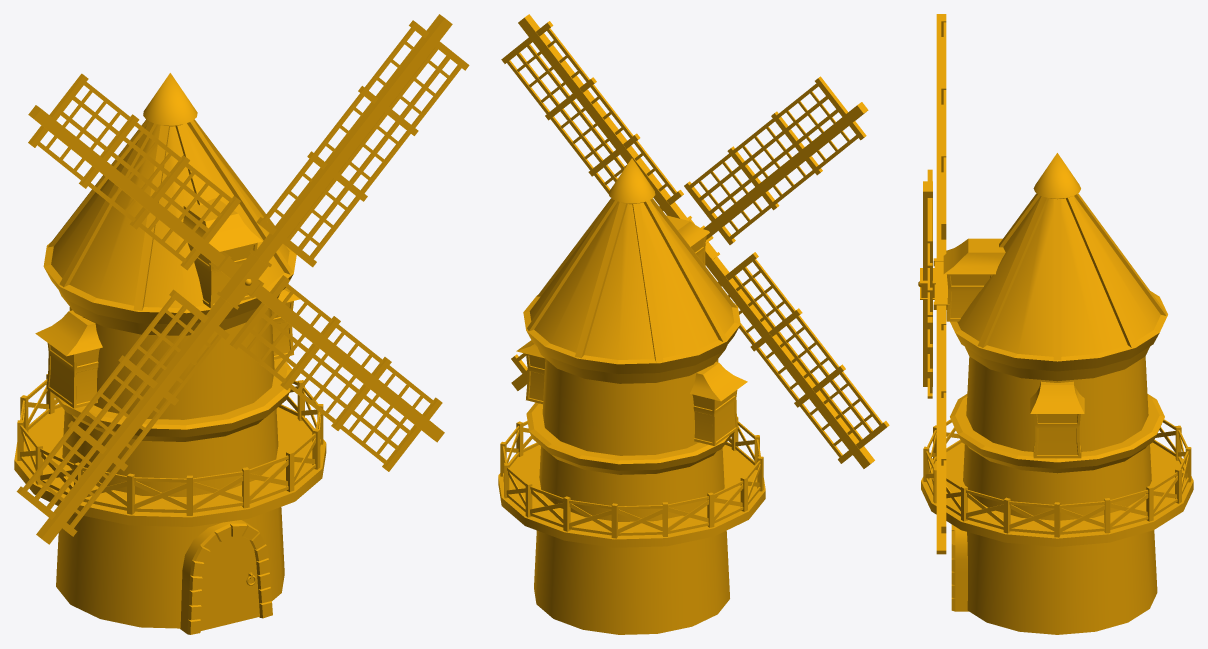
File: Windmill.fbx
The picture shows the model from 3 angles, left to right: view 1: azimuth 30°, elevation 25°; view 2: azimuth 150°, elevation 25°; view 3: azimuth 270°, elevation 25°; orthographic projection. The views are drawn at different scales.
Visible parts, largest first — view 1: Windmill; view 2: Windmill; view 3: Windmill.
Boxes of the visible parts, bbox=[...] form: Windmill: bbox=[14, 14, 469, 634]; Windmill: bbox=[498, 14, 889, 634]; Windmill: bbox=[918, 14, 1193, 634].
Size of the model in its own units: 107 by 135 by 65.75.
